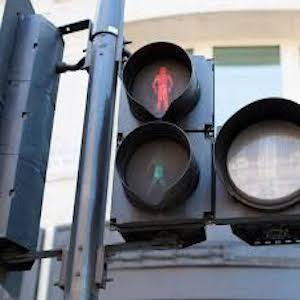red: (145, 64, 174, 115)
